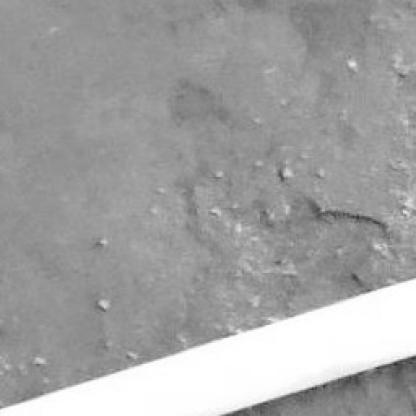PVC: (1, 278, 414, 414)
